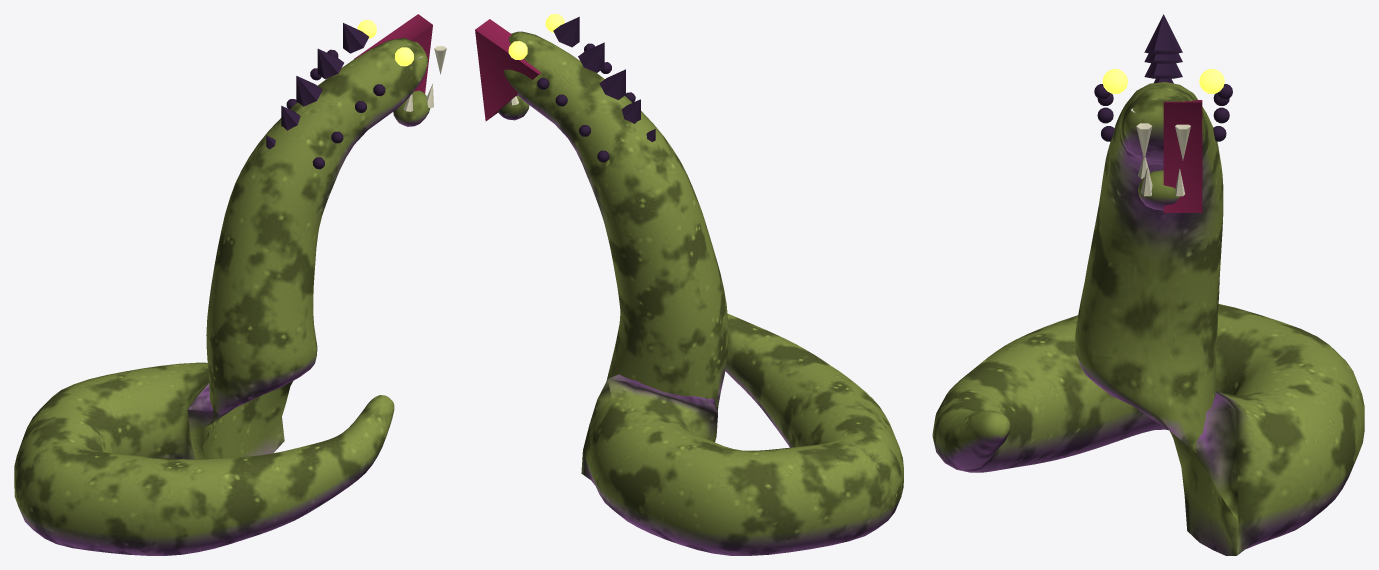
Rendered from lambton-worm.glb.
The picture shows the model from 3 angles, left to right: view 1: azimuth 30°, elevation 25°; view 2: azimuth 150°, elevation 25°; view 3: azimuth 270°, elevation 25°; orthographic projection. The views are drawn at different scales.
Parts seen in each view (by area): view 1: lambton-worm.001; view 2: lambton-worm.001; view 3: lambton-worm.001.
Boxes of the visible parts, left/top/right/bottom form: lambton-worm.001: left=14, top=14, right=446, bottom=555; lambton-worm.001: left=475, top=14, right=903, bottom=555; lambton-worm.001: left=932, top=14, right=1364, bottom=555.
Bounding box in the file's own units: 1.92 × 2.03 × 1.34.
5 materials, 1 textured.
